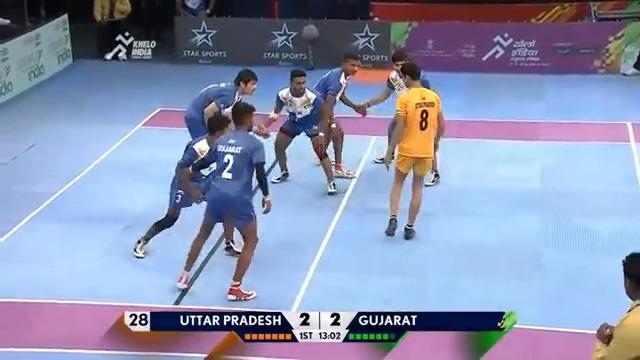Player: (171, 101, 273, 303), (257, 66, 339, 195), (309, 49, 367, 194), (170, 67, 262, 130)
Raider: (380, 61, 445, 241)
referee: (591, 250, 639, 359)
